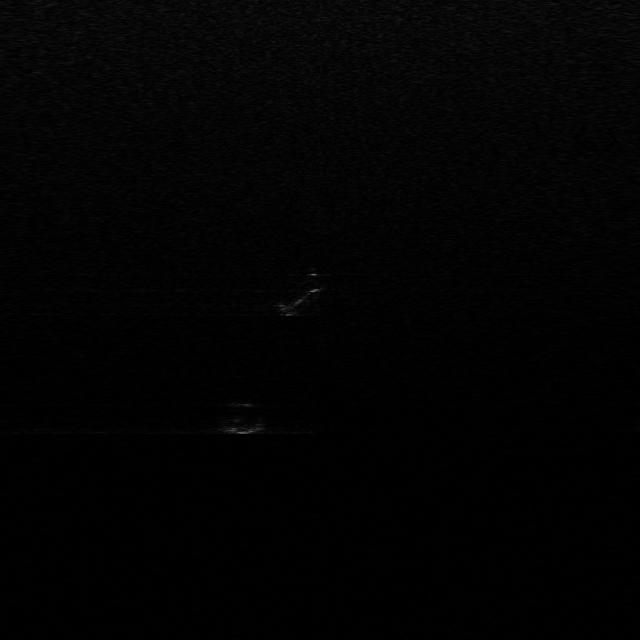ball: (217, 399, 268, 434)
tyre: (277, 278, 321, 316)
